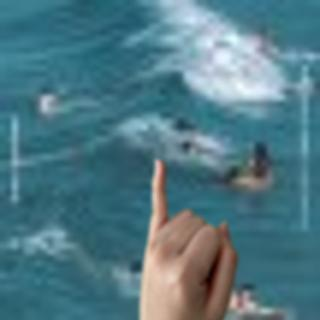FINE: (132, 154, 244, 320)
